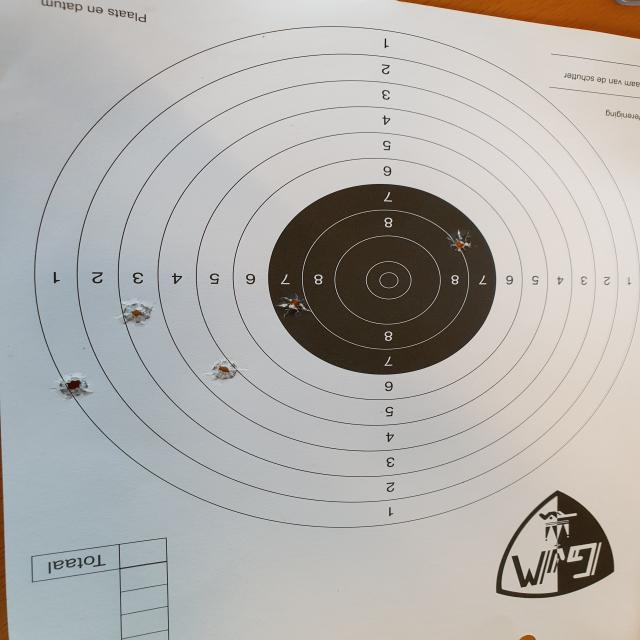1: (52, 374, 92, 398)
4: (112, 302, 157, 329)
6: (207, 361, 239, 382)
9: (274, 294, 310, 316), (446, 232, 478, 254)
Black Contour: (267, 182, 497, 376)
Target: (34, 28, 640, 530)
